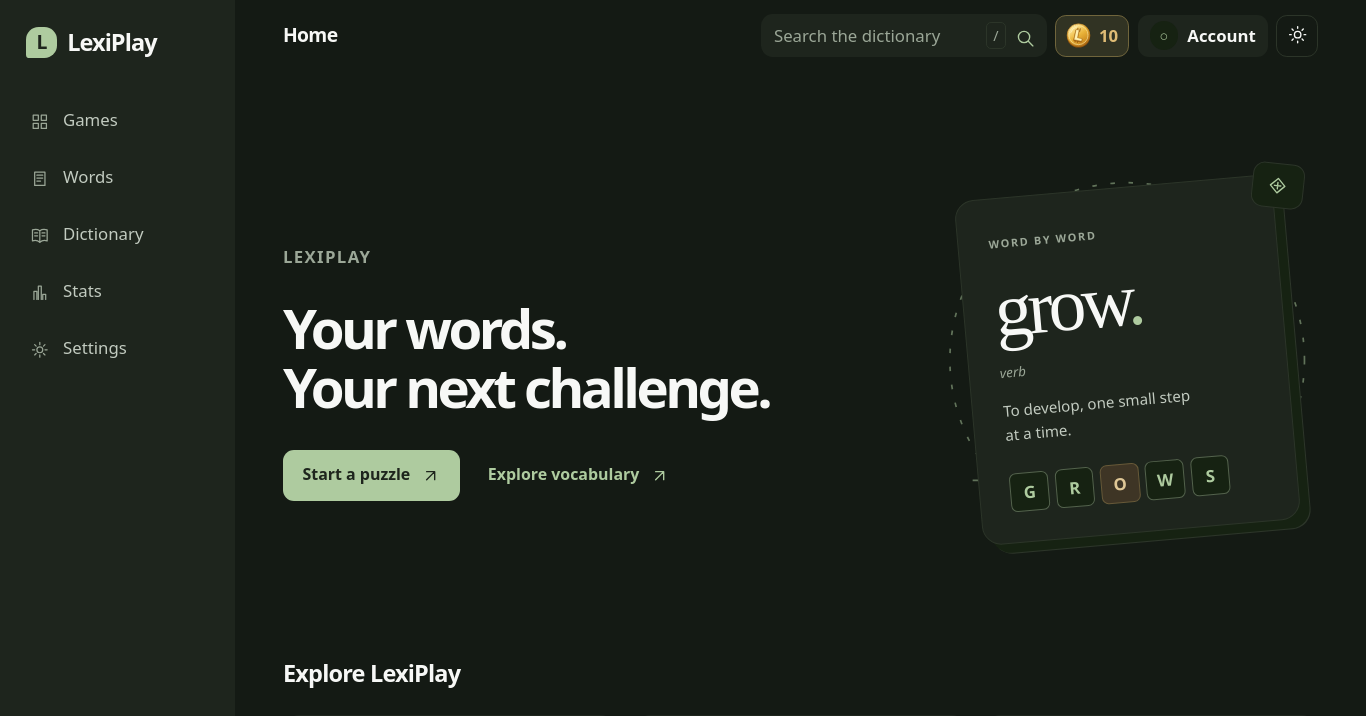
Test case: practice puzzle › shows rules for the selected length and difficulty before starting
The image size is (1366, 716).
Click the button "Games": (118, 119) [17,94,218,144]
(page scrolled)
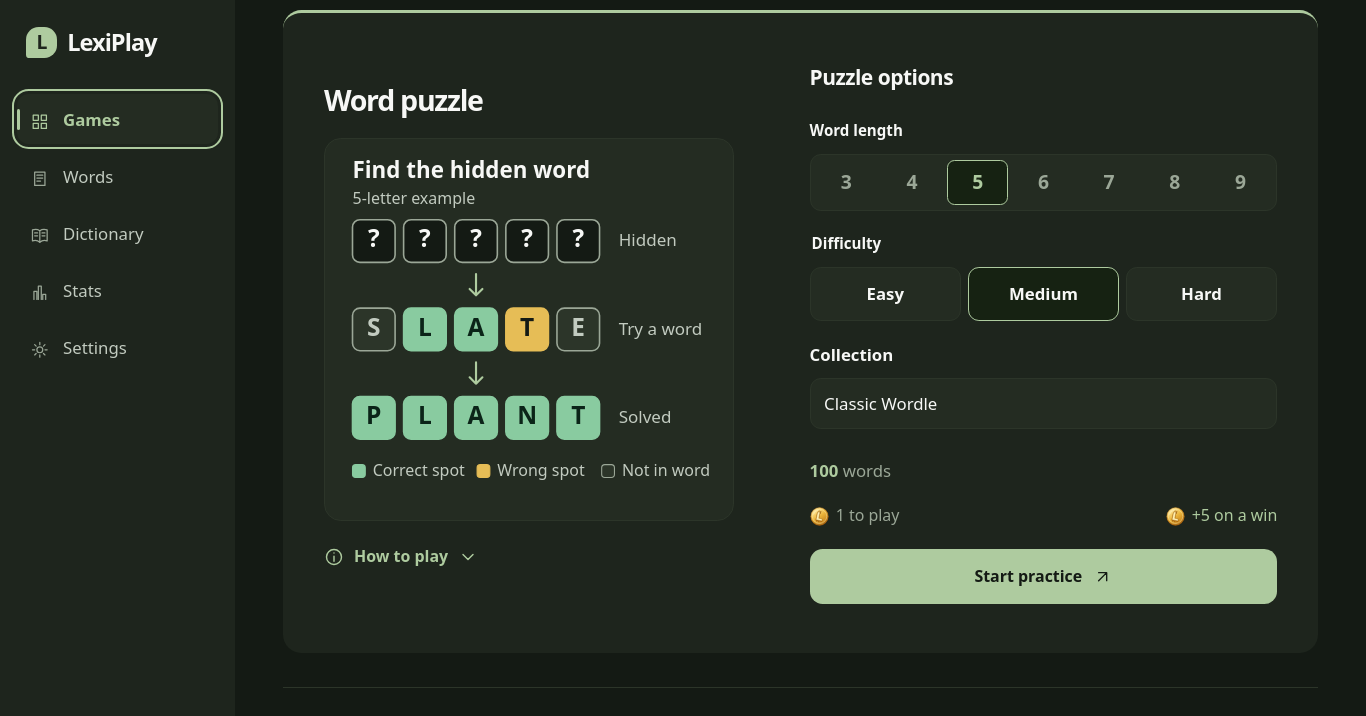
Result: the picture named "Word puzzle example" is shown at [324,138,734,521]
Click the heading "How to play": (401, 556) [324,545,478,567]
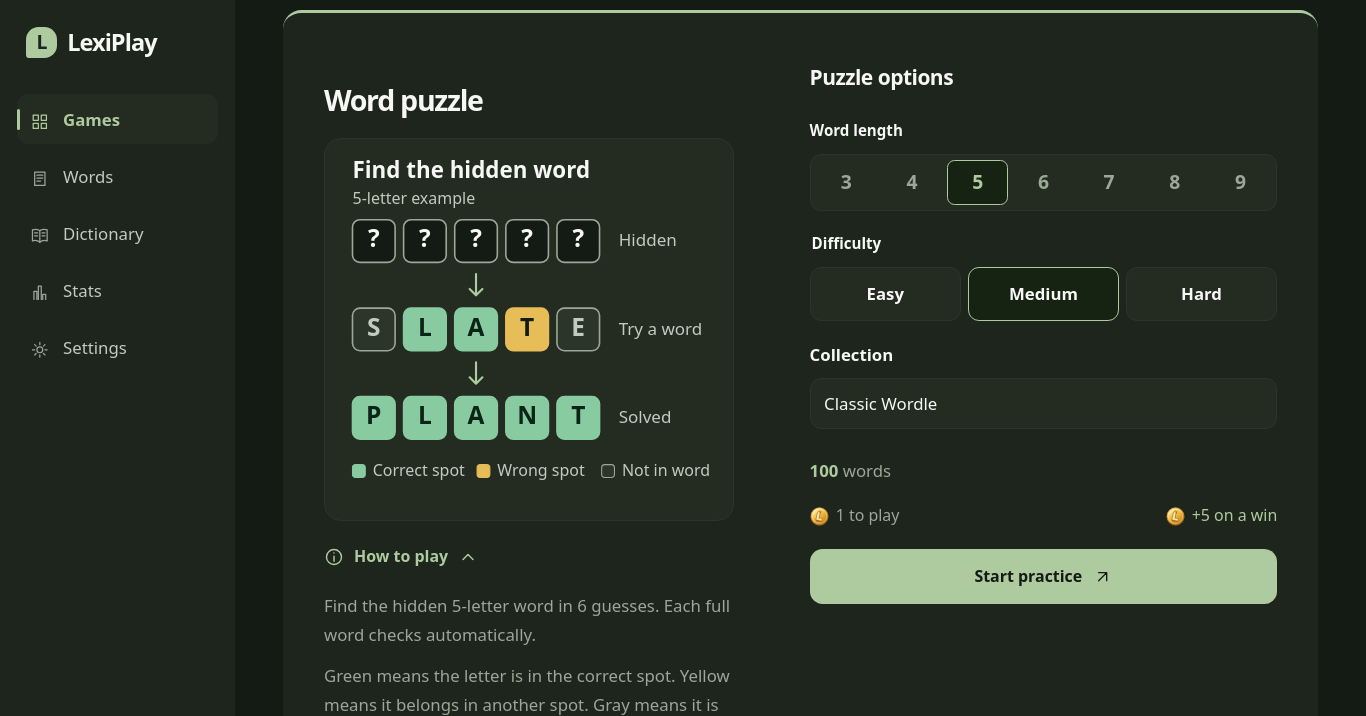
Result: the text "hidden 5-letter word in 6 guesses" is shown at [324,594,730,646]
Click the radio button named "9 letters": (1240, 181) [1235,168,1246,195]
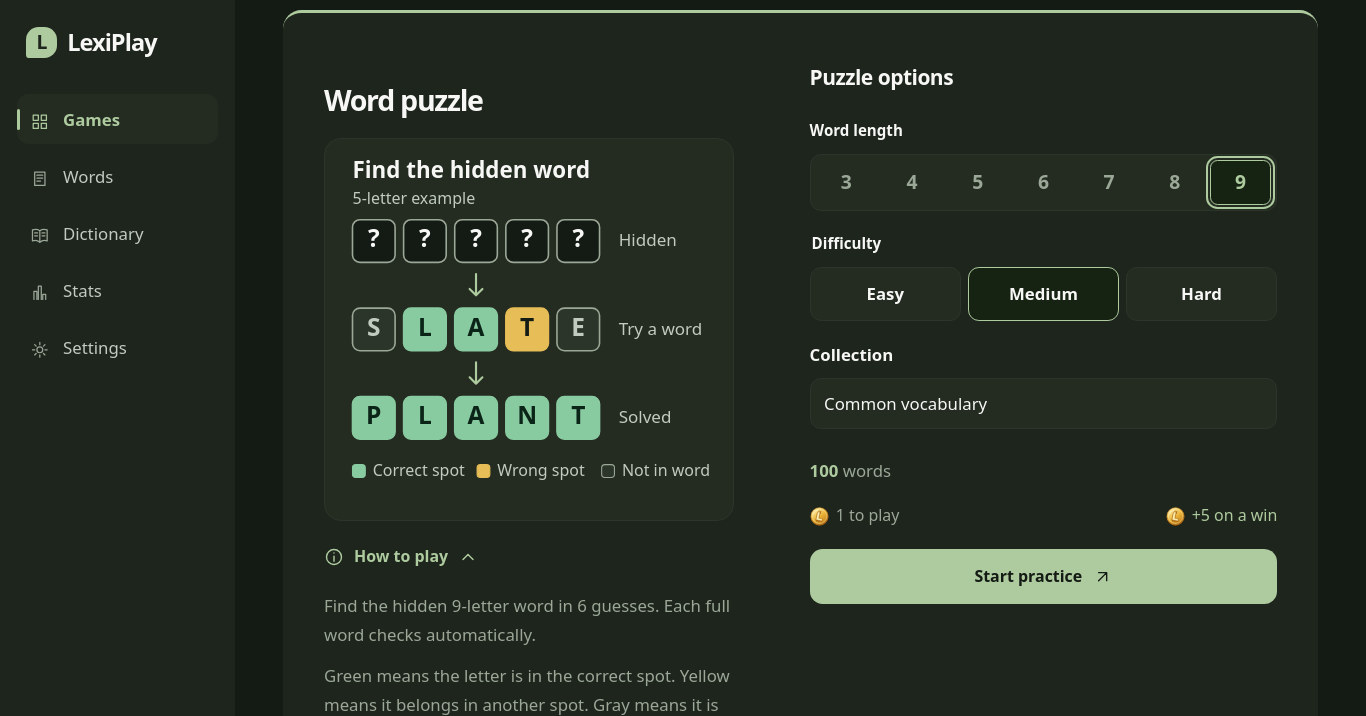
Click the radio button labelled "Hard": (1202, 294) [1126,267,1277,321]
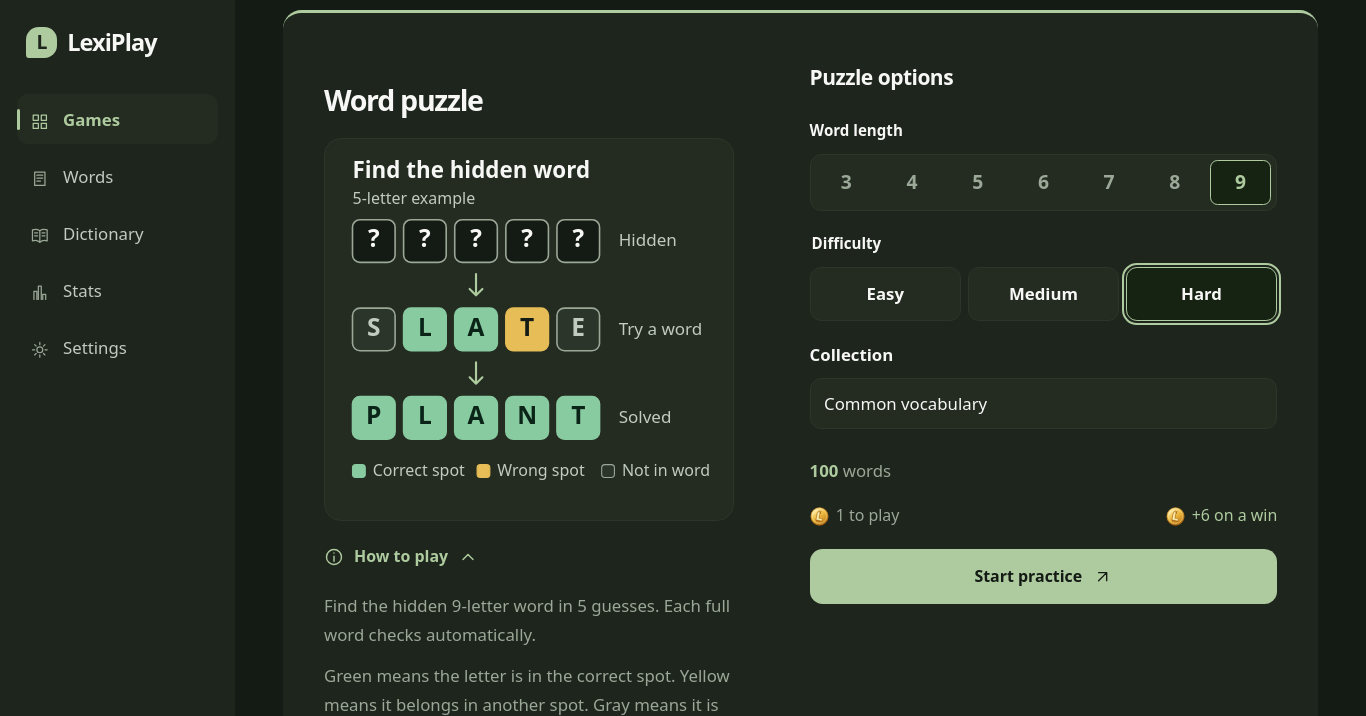
Expected: the text "Correct spot" is shown, [373,460,465,482]
Result: the text "hidden 9-letter word in 5 guesses" is shown at [324,594,730,646]
